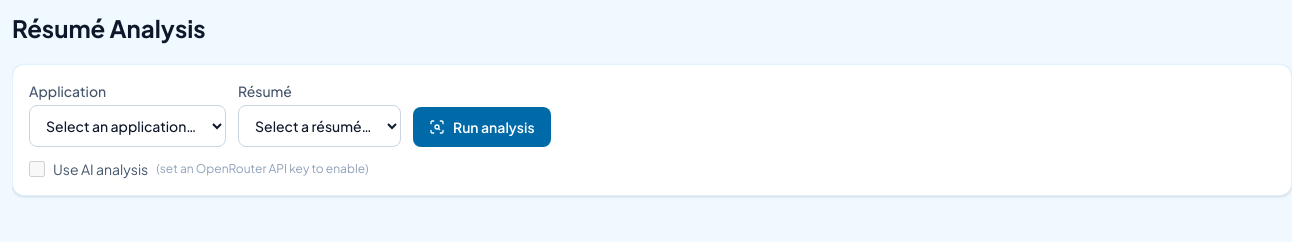
it: shows an error banner if the run fails
Select "Backend Engineer" in the dropdown labelled "Application": (128, 126) [29,105,226,147]
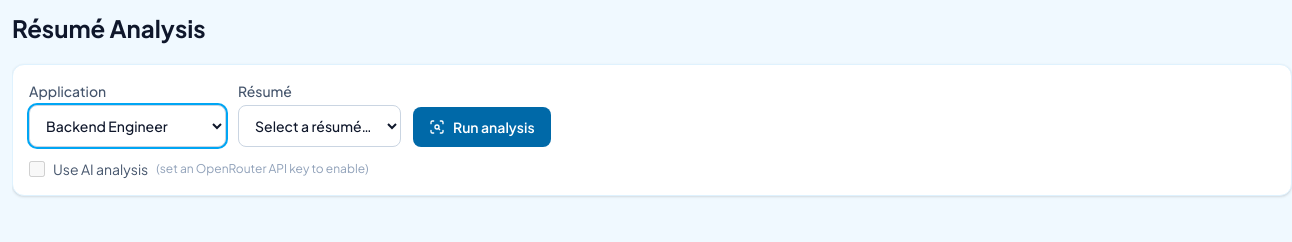
Select "Backend Resume" in the dropdown labelled "Résumé": (320, 126) [238,105,401,147]
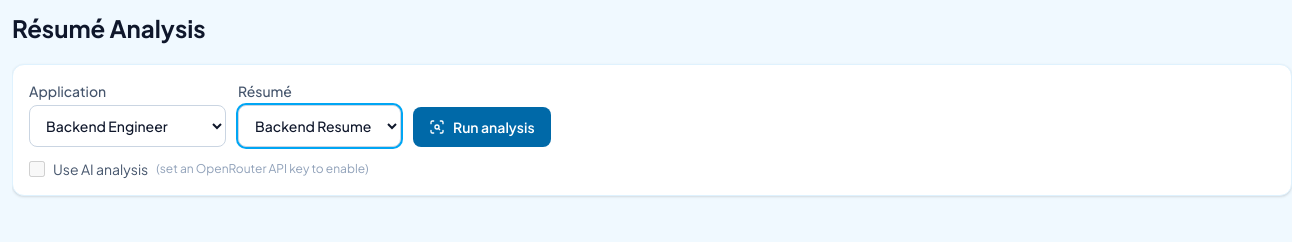
Click the button "Run analysis": (482, 127) [413,107,551,147]
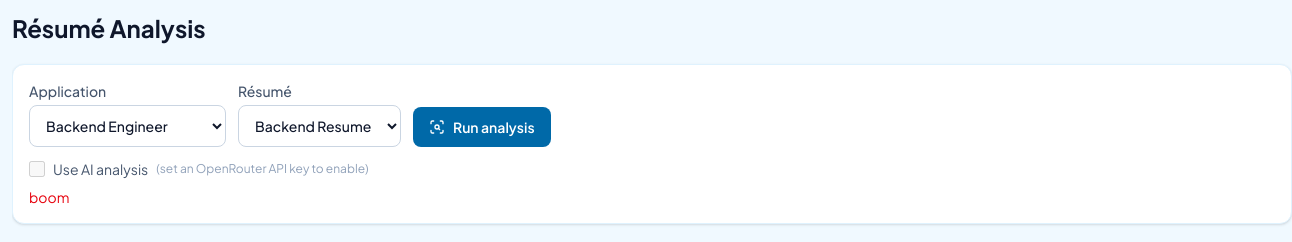
Result: the message "boom" is shown at [29,188,69,206]
